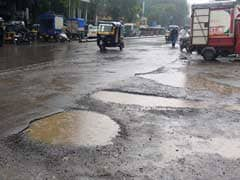auto: (94, 18, 127, 54)
pothole: (13, 106, 120, 164), (131, 66, 238, 98), (81, 89, 215, 111)
